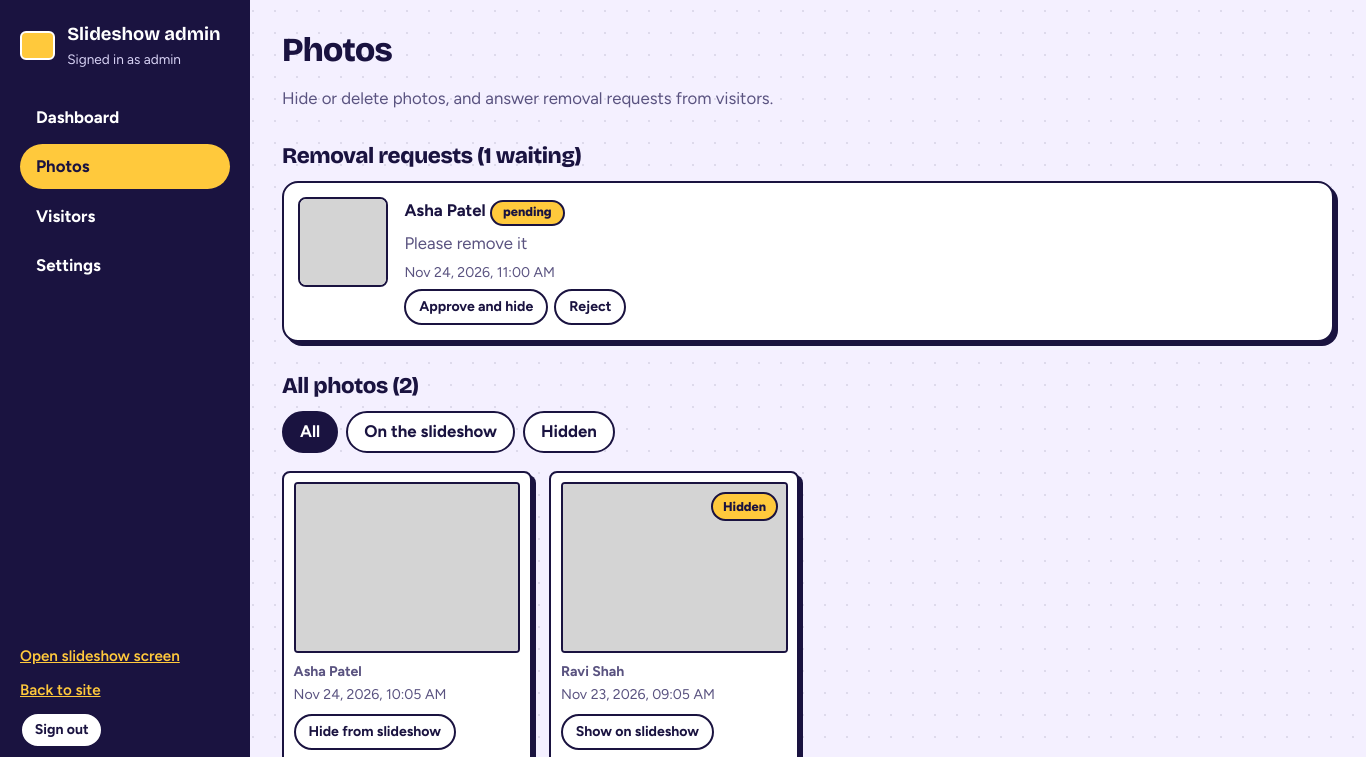
Admin photos and removal requests › shows a hidden photo on the slideshow again
Step 1. Click the button with aria-label "Show photo by Ravi Shah" → (637, 732), box [561,714,714,750]
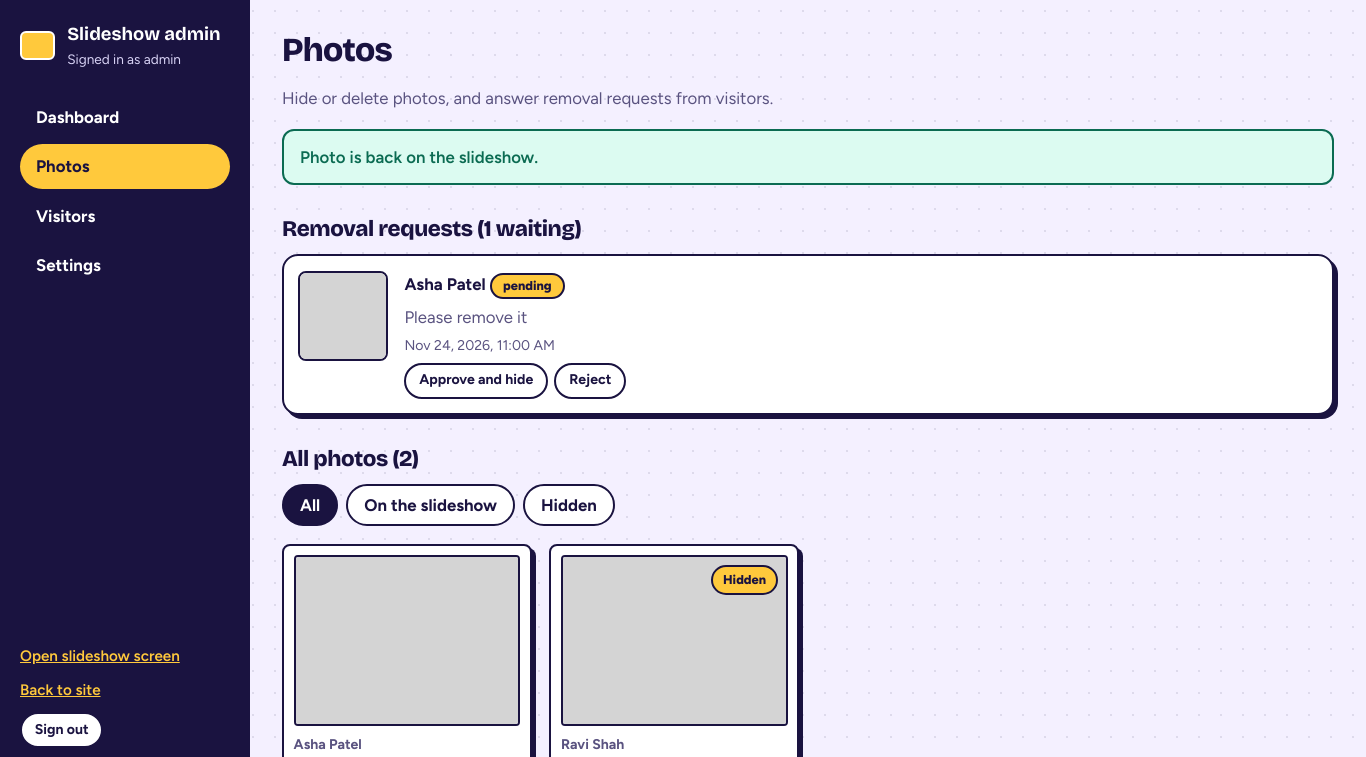
Expected: the text "Photo is back on the slideshow." is shown, [282,129,1334,185]
